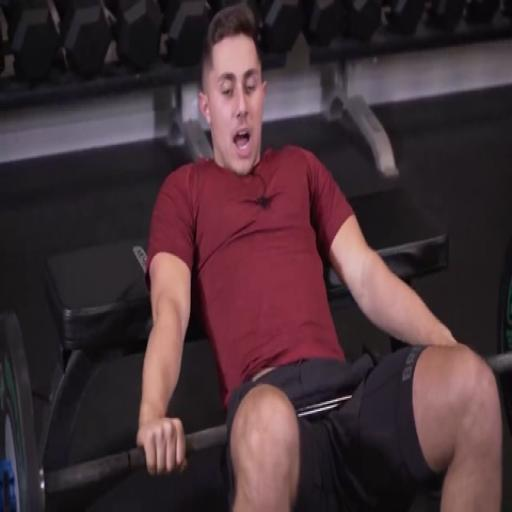exercise: (133, 3, 506, 510)
